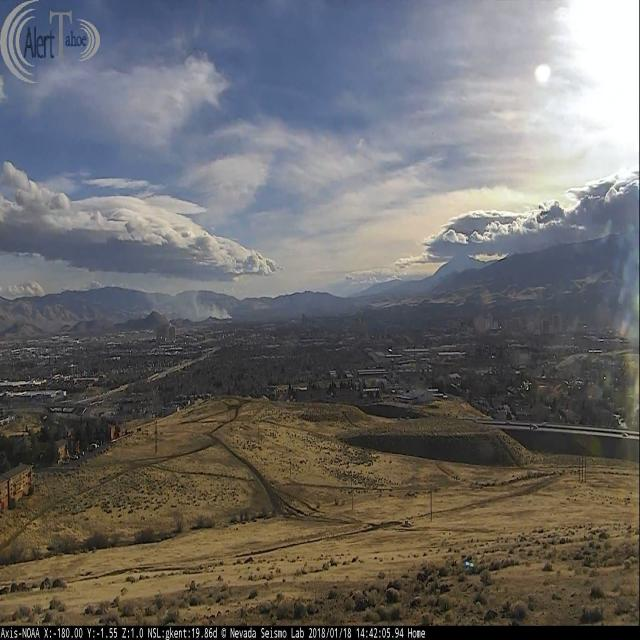smoke: (174, 300, 232, 320)
